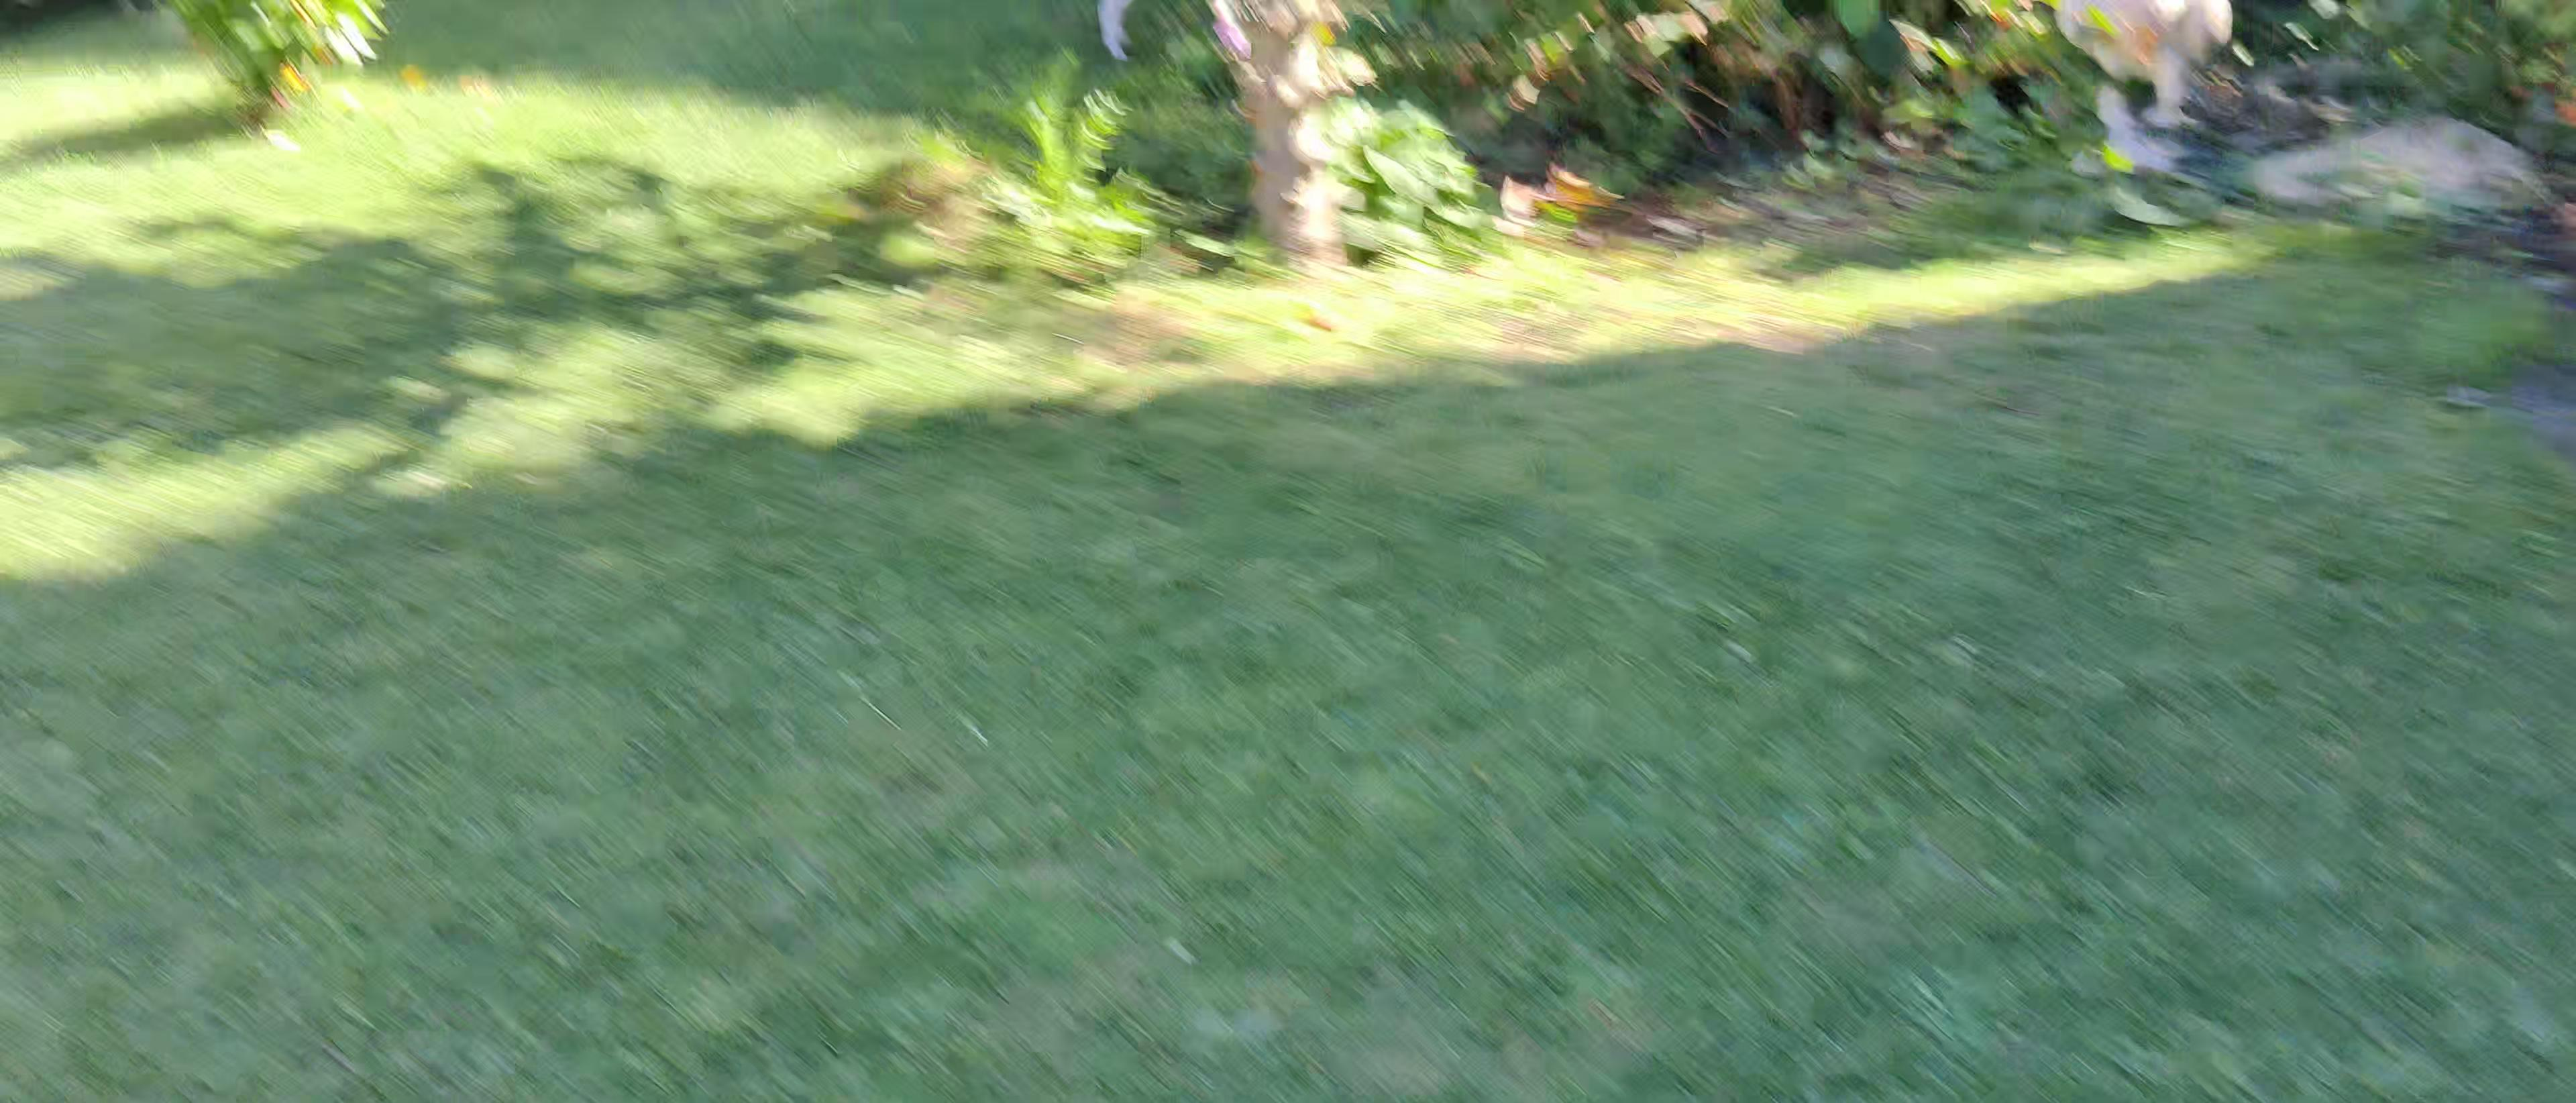Dog: (1089, 0, 1153, 66)
